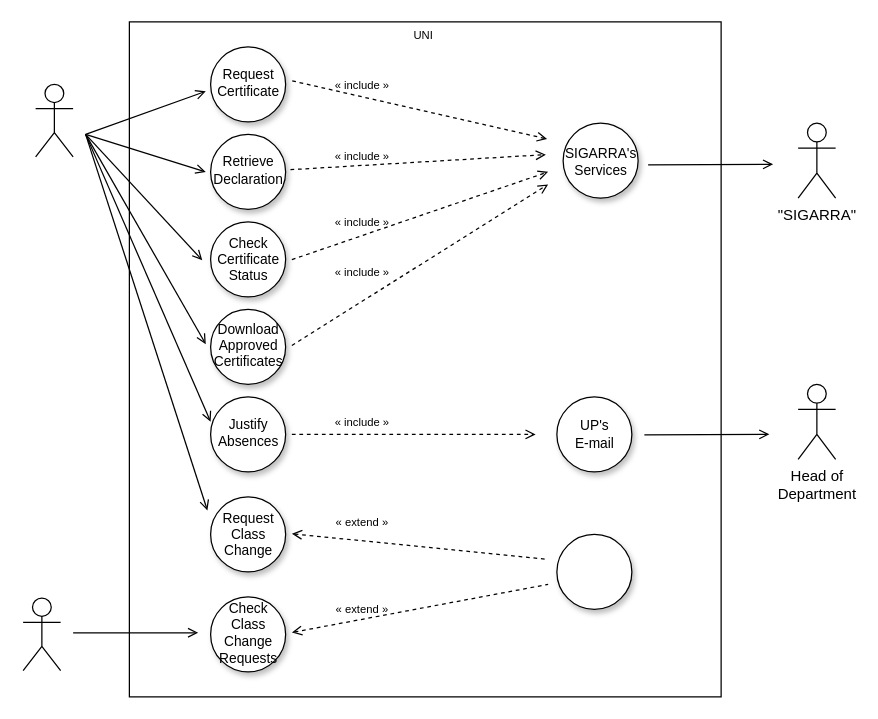
The diagram is 878 pixels wide and 719 high, and some of its shapes have lost their labels. Here are the shapes that lost their labels. From the top down, the centre of each, then its label:
At point 53,120: "Student".
At point 595,573: "Class Change Matcher".
At point 41,634: "Board".
